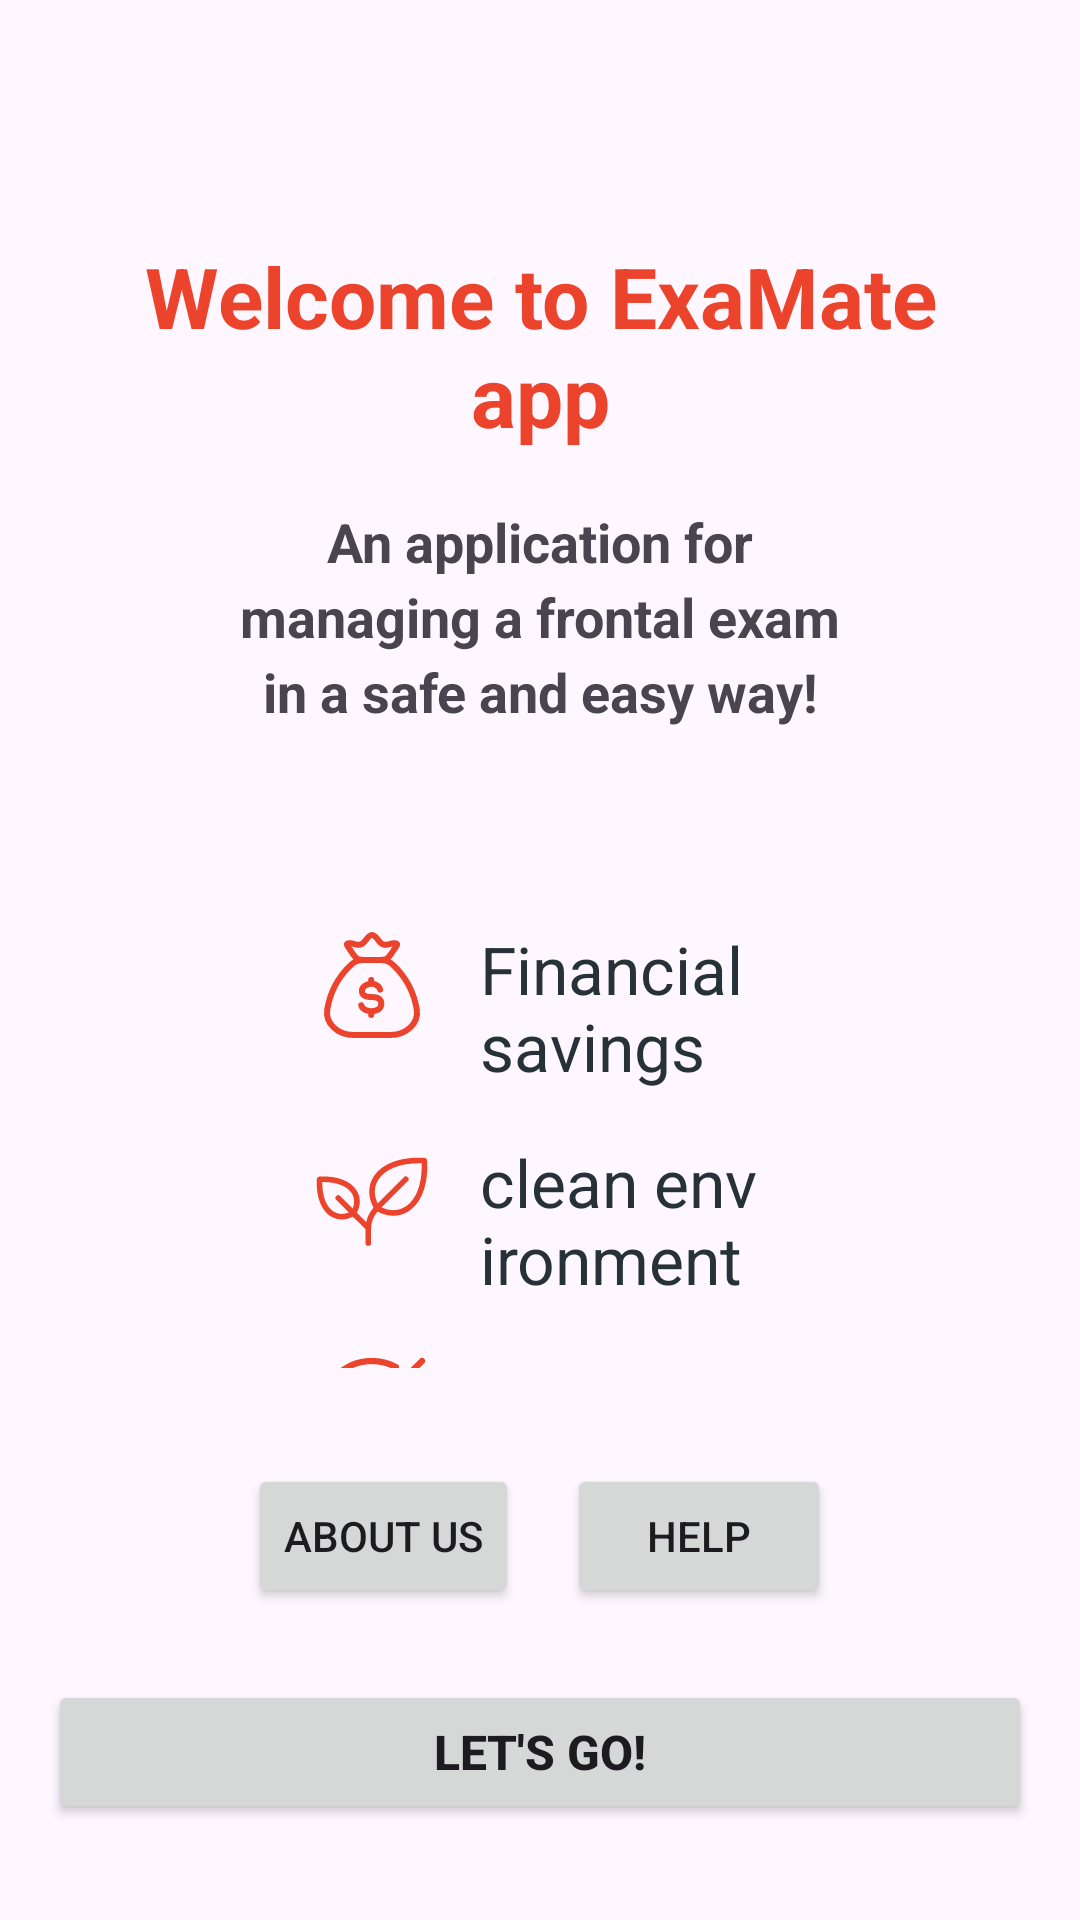

Icon click points for this 1080×1920 phone screenshot, format (x,y):
money: (372,985)
plant: (372,1201)
